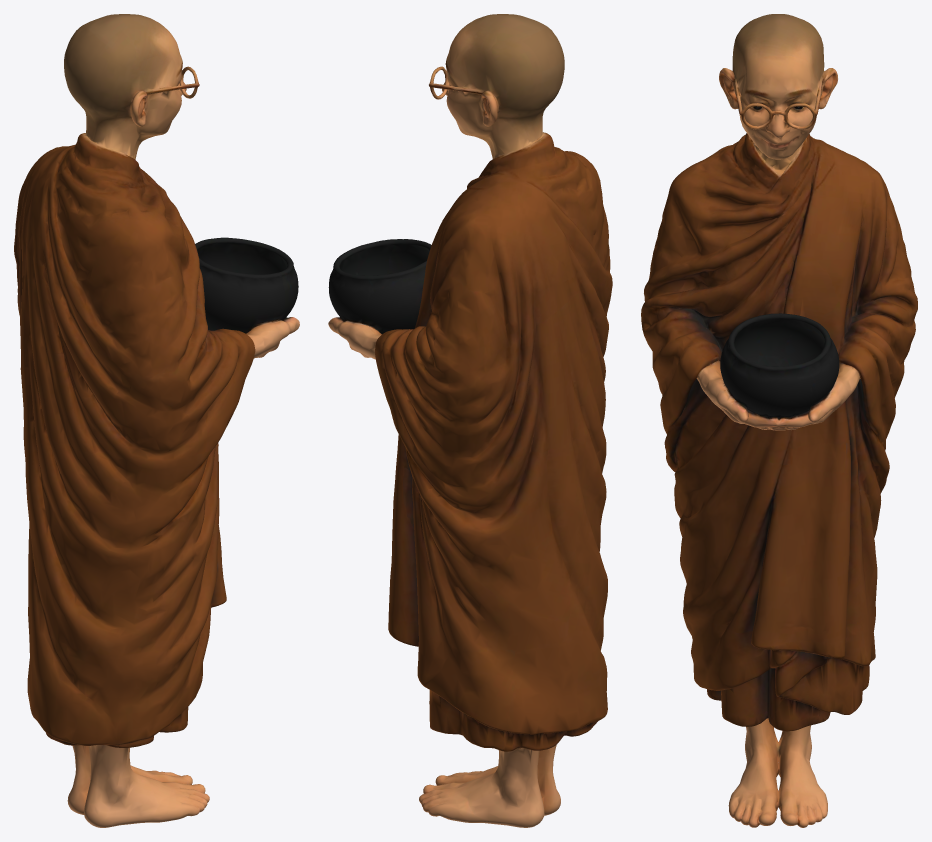
File: alms-young.glb
3 renders of one model, left to right at view 1: azimuth 30°, elevation 25°; view 2: azimuth 150°, elevation 25°; view 3: azimuth 270°, elevation 25°, orthographic. The views are drawn at different scales.
Parts seen in each view (by area): view 1: tripo_node_056999c7-ccc5-44ae-a12e-78833c16e849; view 2: tripo_node_056999c7-ccc5-44ae-a12e-78833c16e849; view 3: tripo_node_056999c7-ccc5-44ae-a12e-78833c16e849.
Boxes of the visible parts, x1,y1,x2,y2 form: tripo_node_056999c7-ccc5-44ae-a12e-78833c16e849: (14, 14, 299, 827); tripo_node_056999c7-ccc5-44ae-a12e-78833c16e849: (328, 14, 612, 827); tripo_node_056999c7-ccc5-44ae-a12e-78833c16e849: (641, 14, 917, 827).
Size of the model in its own units: 0.3364 by 0.9999 by 0.3238.
1 material, 1 textured.
